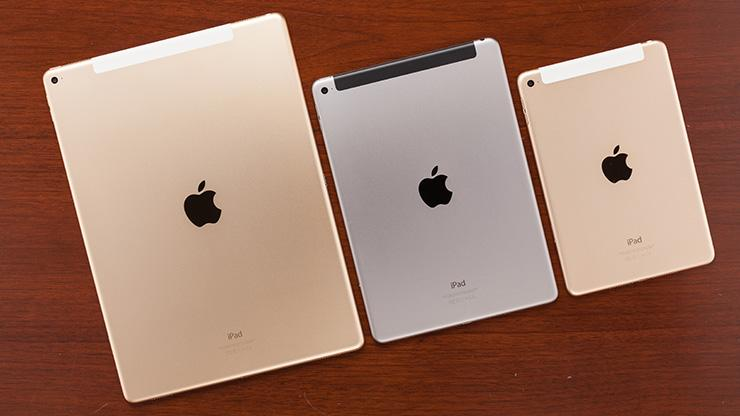apple: (410, 161, 487, 229), (593, 134, 644, 199), (181, 176, 235, 237)
